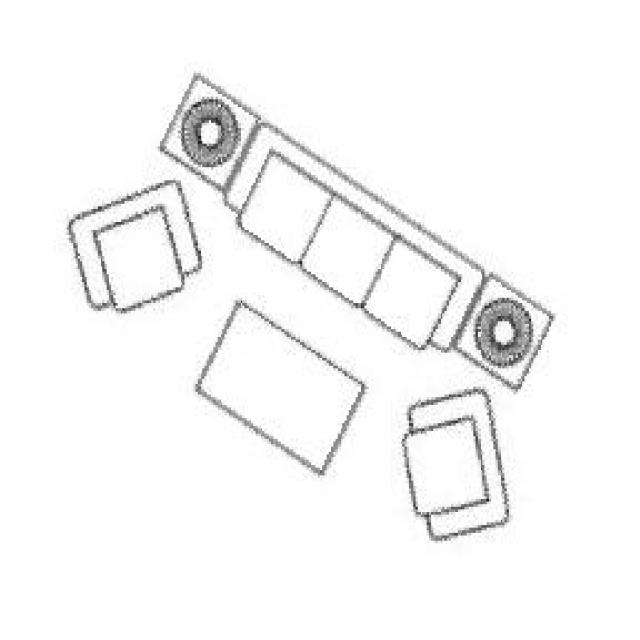sofa: (62, 68, 554, 548)
